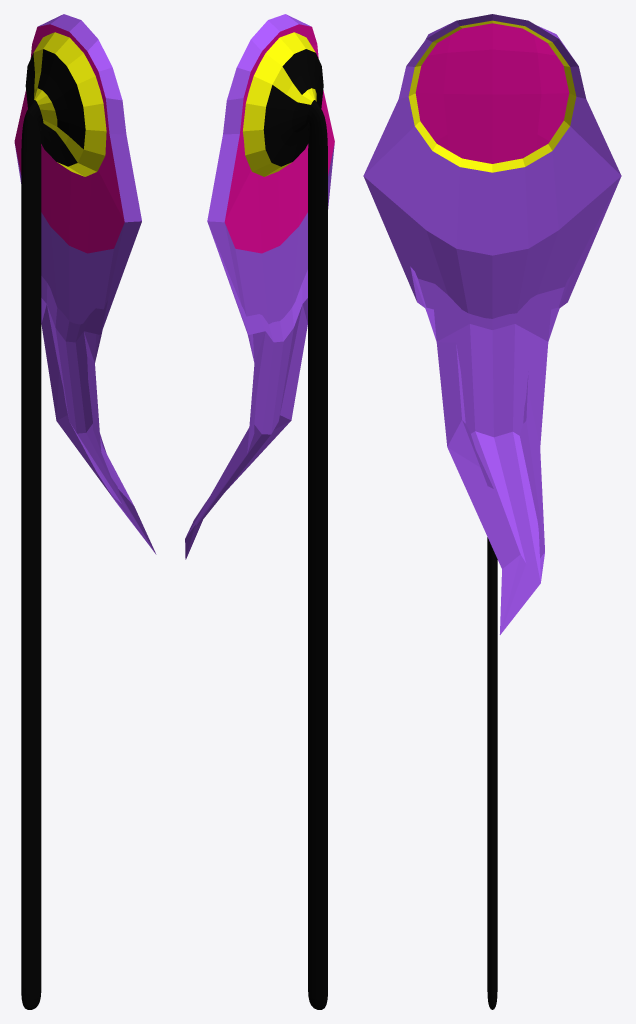
File: flag2.fbx
3 renders of one model, left to right at view 1: azimuth 30°, elevation 25°; view 2: azimuth 150°, elevation 25°; view 3: azimuth 270°, elevation 25°, orthographic. The views are drawn at different scales.
Parts seen in each view (by area): view 1: Cube; view 2: Cube; view 3: Cube.
Boxes of the visible parts, x1=… form: Cube: x1=14, y1=14, x2=156, y2=1009; Cube: x1=185, y1=14, x2=334, y2=1009; Cube: x1=363, y1=14, x2=621, y2=1009.
Size of the model in its own units: 83.48 by 563 by 129.
1 material, 1 textured.
